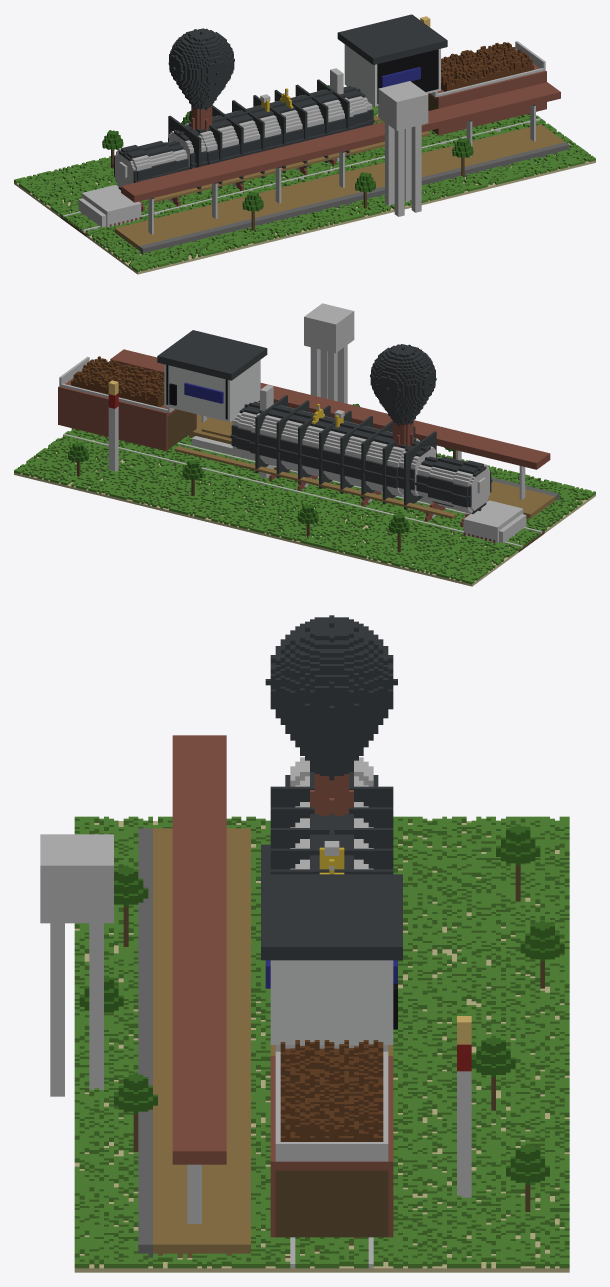
The picture shows the model from 3 angles, top to bottom: view 1: azimuth 30°, elevation 25°; view 2: azimuth 150°, elevation 25°; view 3: azimuth 270°, elevation 25°; orthographic projection. The views are drawn at different scales.
Bounding box in the file's own units: 216 × 82 × 108.
